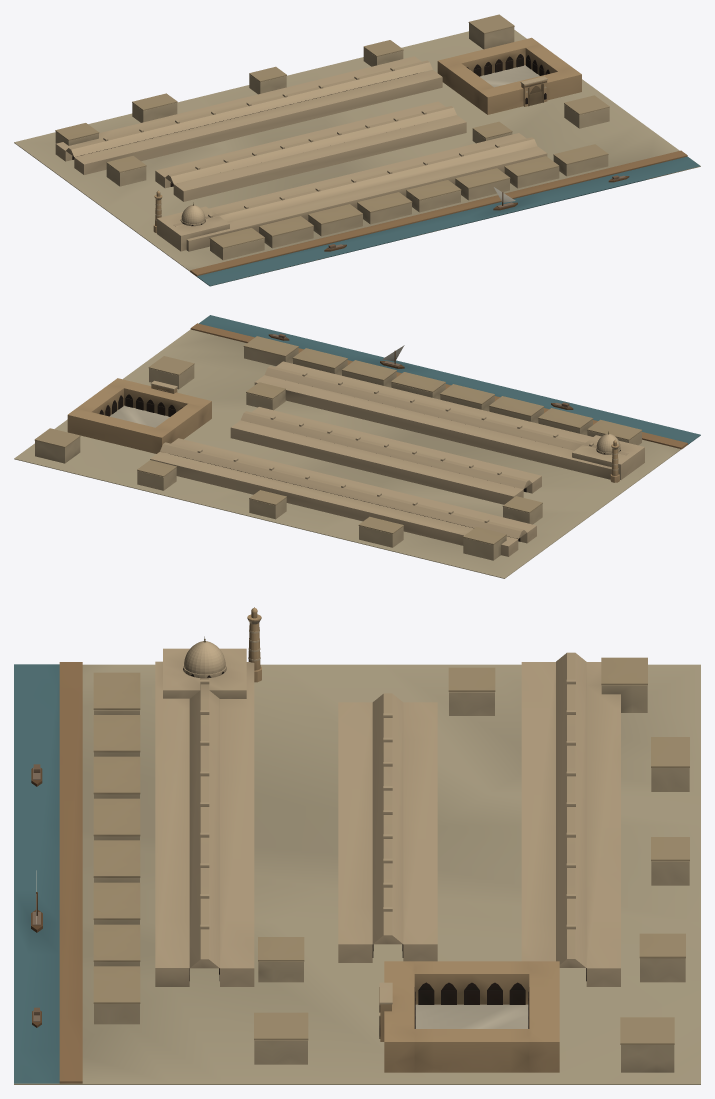
File: karkh-market.glb
3 views of the same model, one above another, from view 1: azimuth 30°, elevation 25°; view 2: azimuth 150°, elevation 25°; view 3: azimuth 270°, elevation 25° (orthographic). The views are drawn at different scales.
Visible parts, largest first — view 1: p0_ground, p3_khan and mosque, p1_market streets, p2_vaults; view 2: p0_ground, p1_market streets, p3_khan and mosque, p2_vaults; view 3: p0_ground, p3_khan and mosque, p1_market streets, p2_vaults.
Boxes of the visible parts, box(x1,y1,x2,y2) form: p0_ground: box(14, 30, 700, 286); p3_khan and mosque: box(55, 14, 629, 260); p1_market streets: box(55, 56, 547, 251); p2_vaults: box(66, 60, 537, 226); p0_ground: box(14, 315, 700, 578); p1_market streets: box(150, 361, 611, 556); p3_khan and mosque: box(34, 334, 644, 560); p2_vaults: box(160, 366, 628, 538); p0_ground: box(14, 662, 700, 1084); p3_khan and mosque: box(31, 607, 689, 1072); p1_market streets: box(155, 661, 620, 986); p2_vaults: box(189, 652, 586, 968).
Bounding box in the file's own units: 260 × 21.23 × 180.
